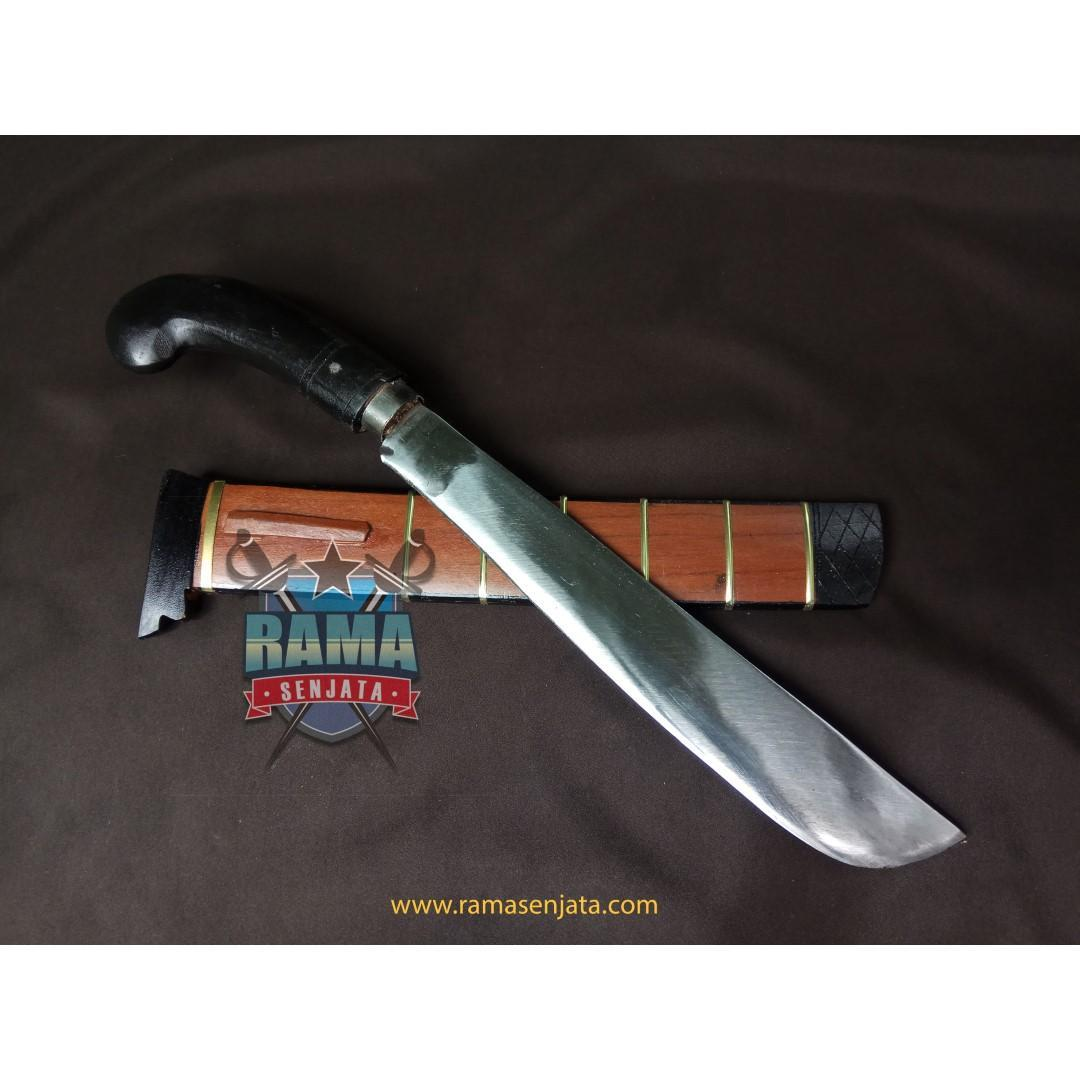facao: (102, 245, 1003, 912)
